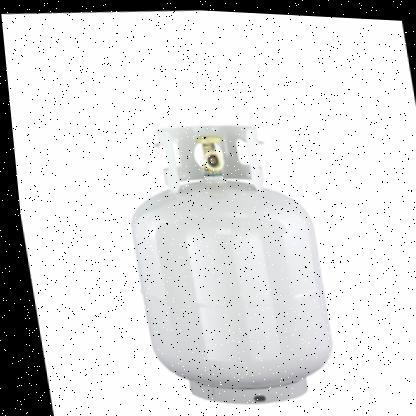gas-tank: (99, 95, 352, 415)
